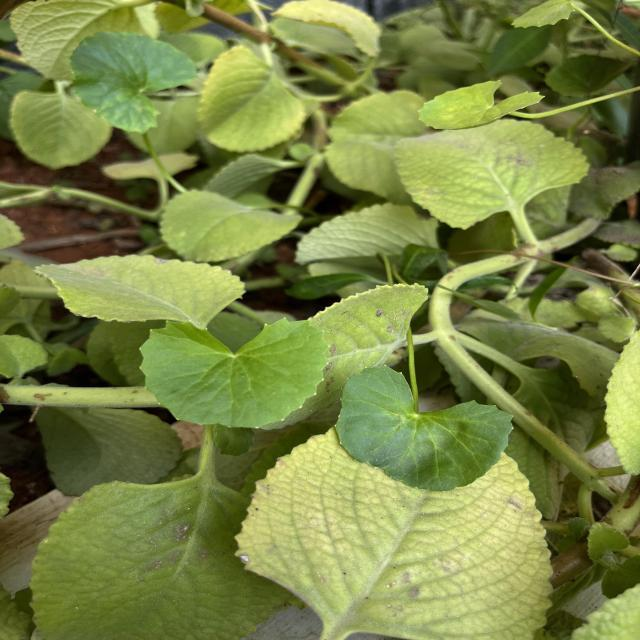Centella asiatica: (333, 362, 519, 496), (136, 313, 335, 431)
